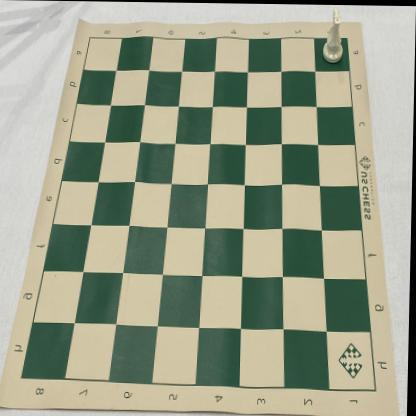white-knight: (322, 4, 344, 64)
